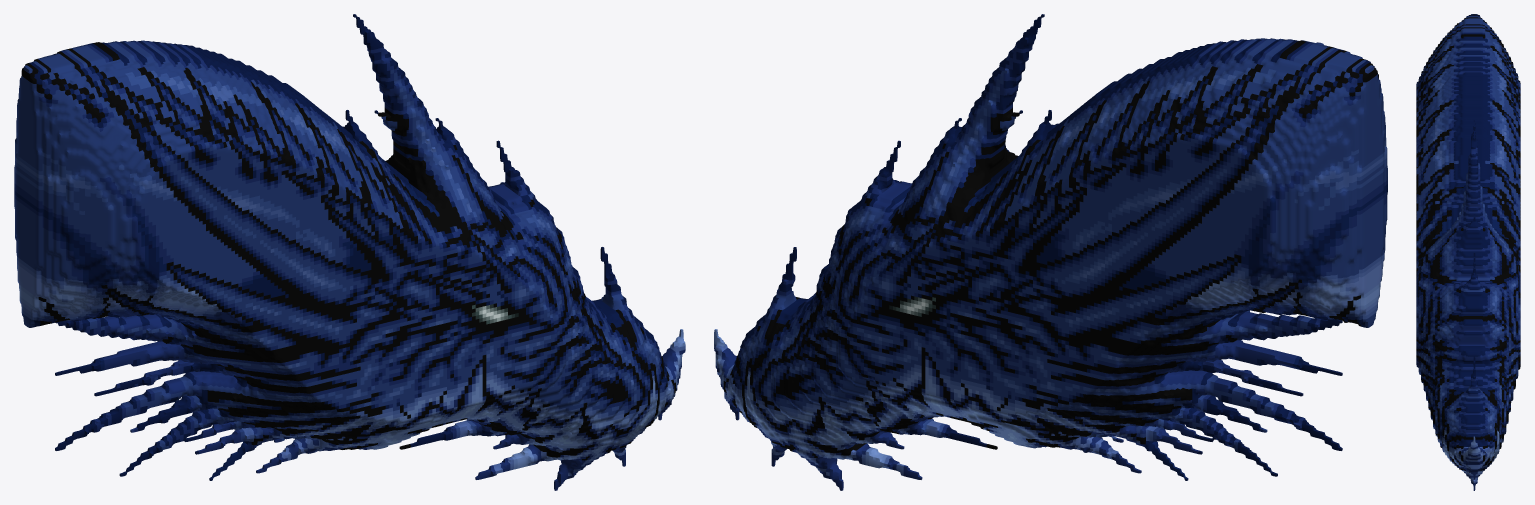
Rendered from Fight_759_2_02.obj.
3 renders of one model, left to right at view 1: azimuth 30°, elevation 25°; view 2: azimuth 150°, elevation 25°; view 3: azimuth 270°, elevation 25°, orthographic. The views are drawn at different scales.
Size of the model in its own units: 18.3 by 14.68 by 4.4.
